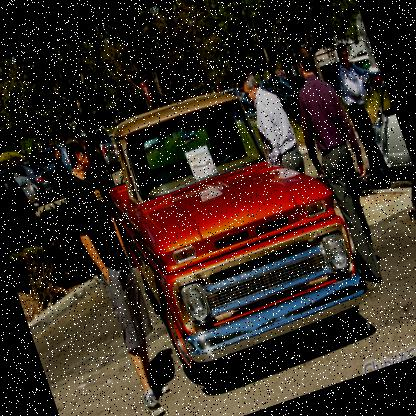Car: (352, 76, 413, 176), (0, 148, 44, 238), (9, 152, 66, 212), (78, 122, 121, 174), (27, 140, 74, 184), (260, 70, 294, 106)
